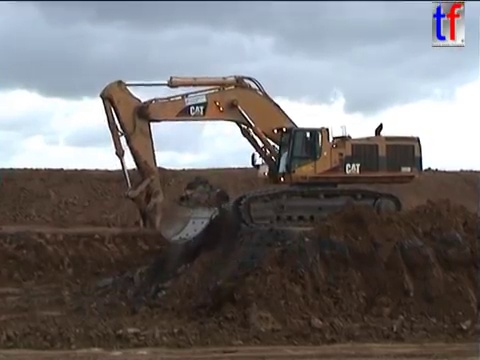excavator: (96, 72, 425, 248)
